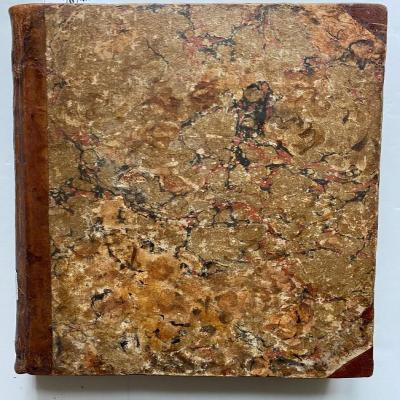rare_books: (8, 3, 388, 382)
